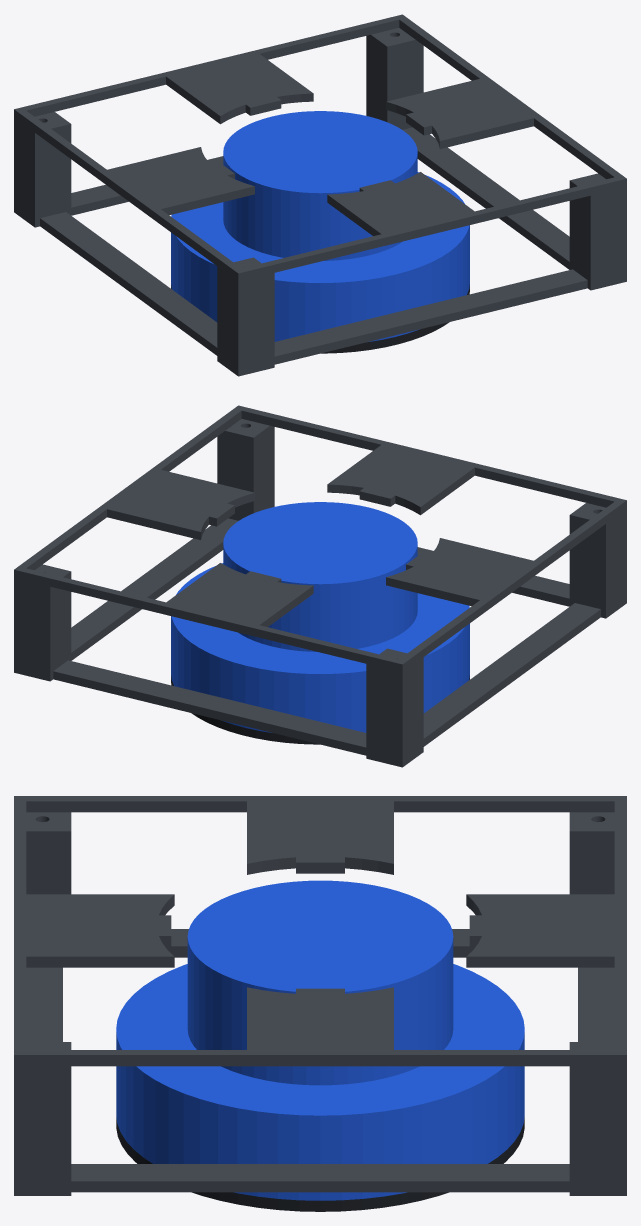
File: lightweight-cleaning-robot.glb
3 renders of one model, top to bottom at view 1: azimuth 30°, elevation 25°; view 2: azimuth 150°, elevation 25°; view 3: azimuth 270°, elevation 25°, orthographic. The views are drawn at different scales.
Parts seen in each view (by area): view 1: Lightweight_Climbing_Robot_Concept - Lightweight_Climbing_Ro (×4); view 2: Lightweight_Climbing_Robot_Concept - Lightweight_Climbing_Ro (×4); view 3: Lightweight_Climbing_Robot_Concept - Lightweight_Climbing_Ro (×4).
Boxes of the visible parts, left/top/right/bottom form: Lightweight_Climbing_Robot_Concept - Lightweight_Climbing_Ro (×4): left=14, top=14, right=626, bottom=376; Lightweight_Climbing_Robot_Concept - Lightweight_Climbing_Ro (×4): left=14, top=405, right=626, bottom=767; Lightweight_Climbing_Robot_Concept - Lightweight_Climbing_Ro (×4): left=14, top=796, right=626, bottom=1211.
Size of the model in its own units: 0.15 by 0.054 by 0.15.
